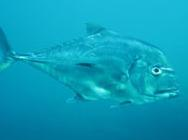Carangidae -Jacks-: (0, 15, 181, 109)
